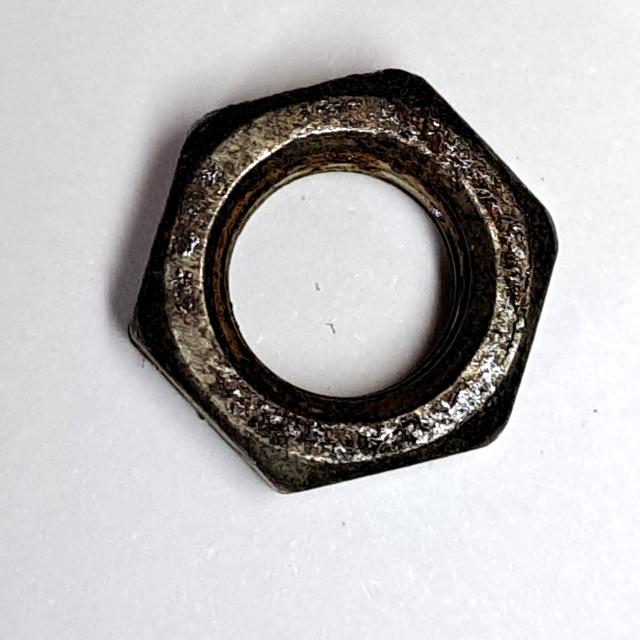Rust: (117, 55, 573, 505)
